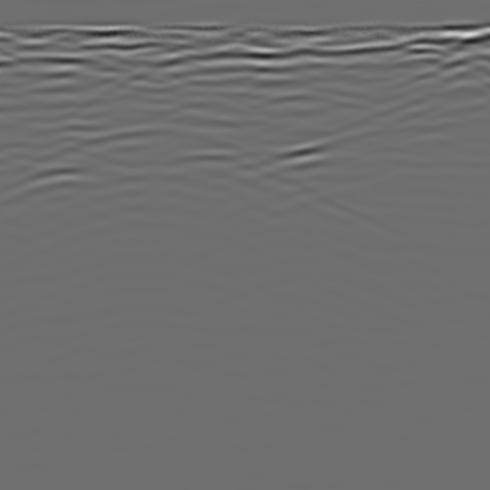hyperbola: (18, 108, 311, 241)
